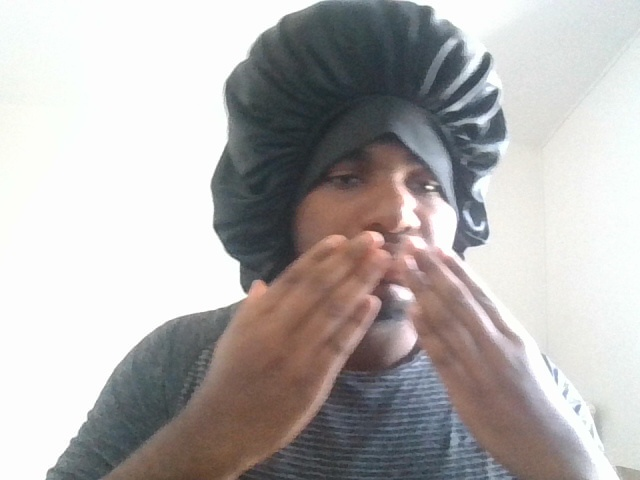Thank You: (118, 200, 640, 480)
